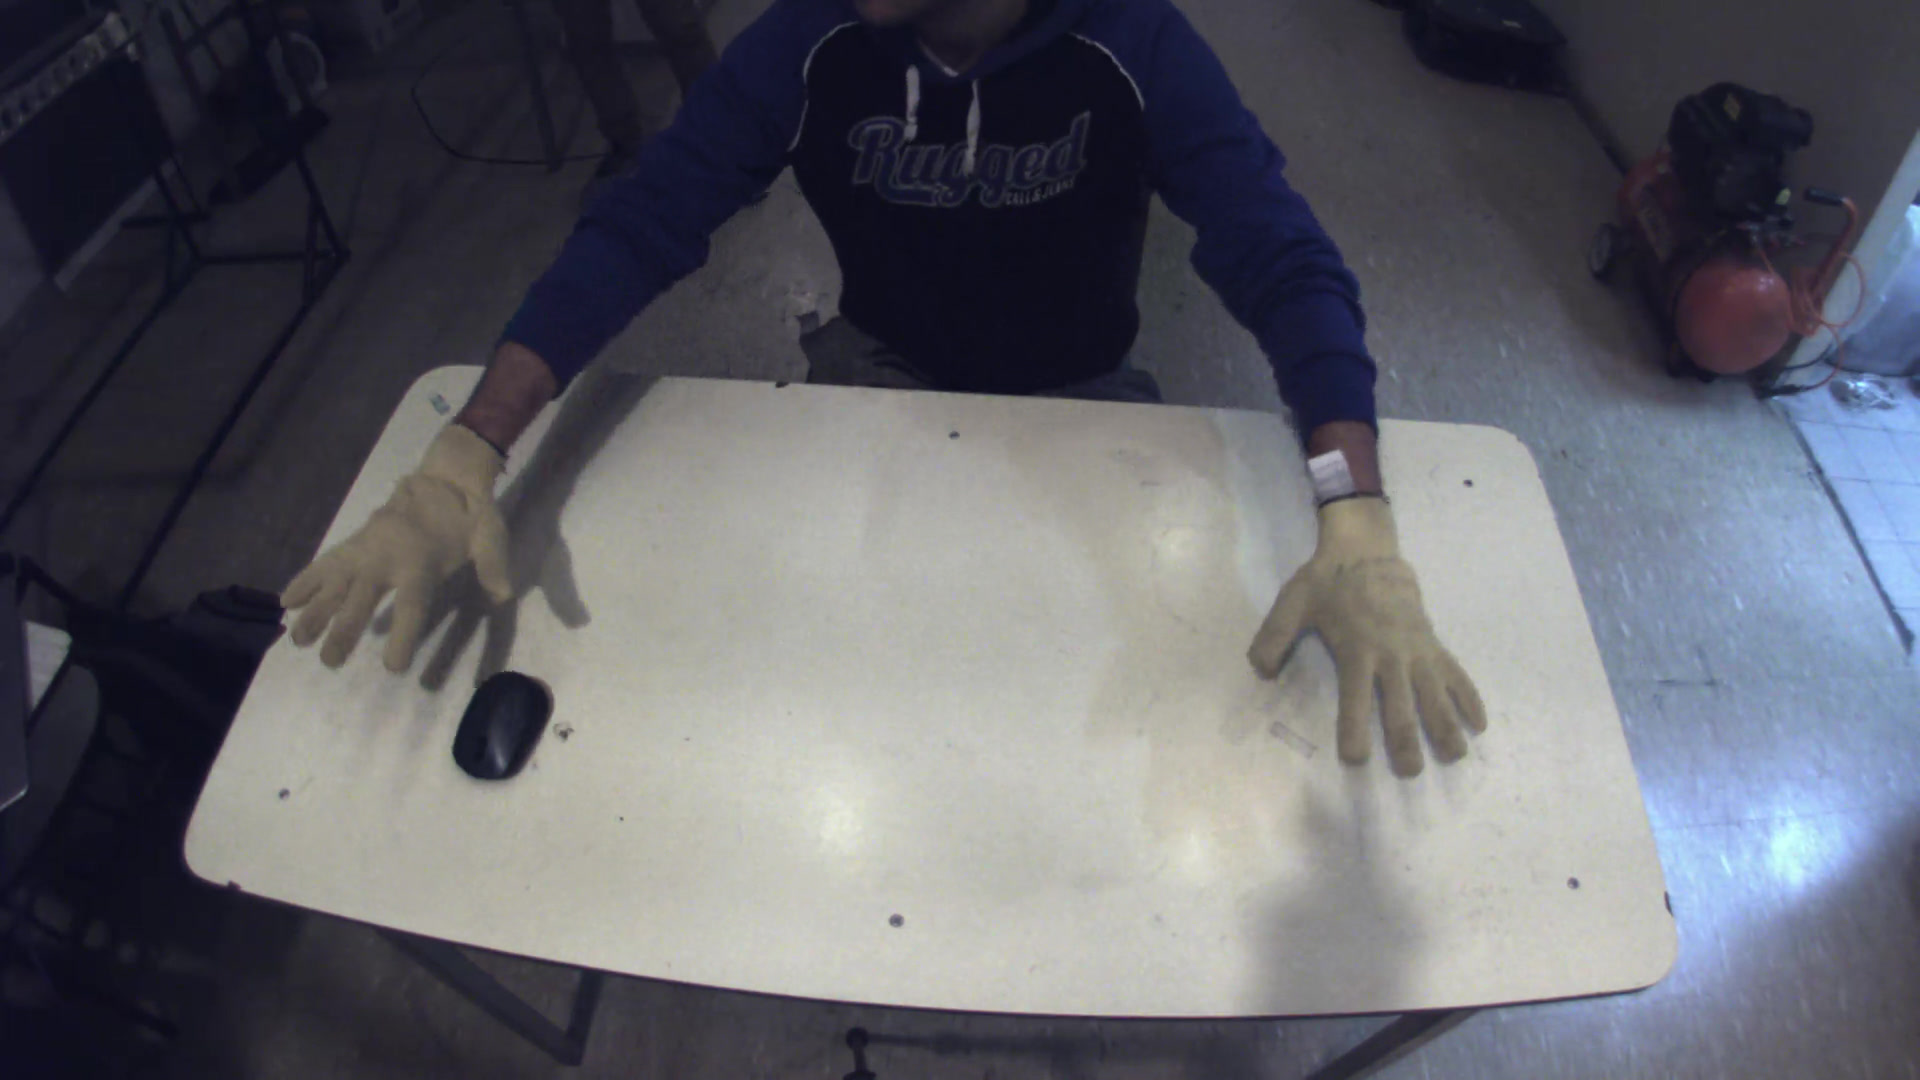hand: (1247, 491, 1501, 783), (274, 434, 516, 690)
